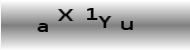1: (84, 7, 98, 22)
X: (57, 7, 75, 23)
Y: (98, 14, 112, 29)
a: (36, 22, 49, 33)
u: (118, 20, 136, 31)
